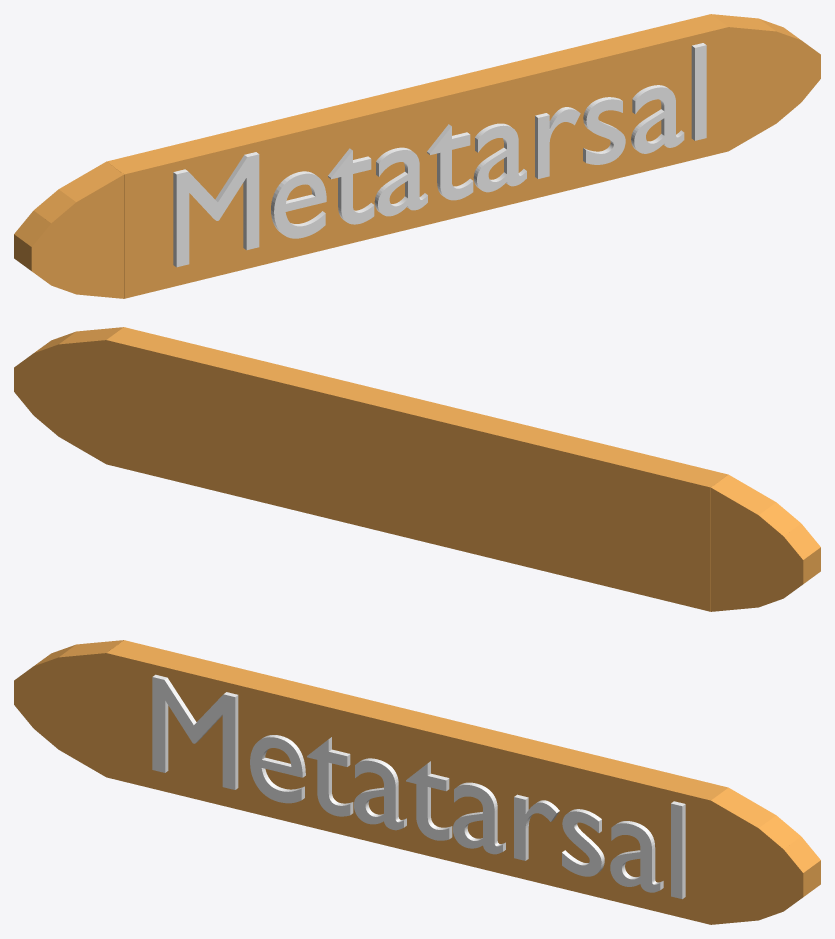
Rendered from txtMetatarsal.fbx.
The picture shows the model from 3 angles, top to bottom: view 1: azimuth 30°, elevation 25°; view 2: azimuth 150°, elevation 25°; view 3: azimuth 330°, elevation 25°; orthographic projection.
Parts seen in each view (by area): view 1: TagContainer.018, Text.018; view 2: TagContainer.018; view 3: TagContainer.018, Text.018.
Boxes of the visible parts, left/top/right/bottom form: TagContainer.018: left=14, top=14, right=820, bottom=298; Text.018: left=173, top=43, right=706, bottom=267; TagContainer.018: left=14, top=327, right=820, bottom=611; TagContainer.018: left=14, top=640, right=820, bottom=924; Text.018: left=152, top=674, right=685, bottom=899.
Bounding box in the file's own units: 274 × 41.3 × 12.58.
